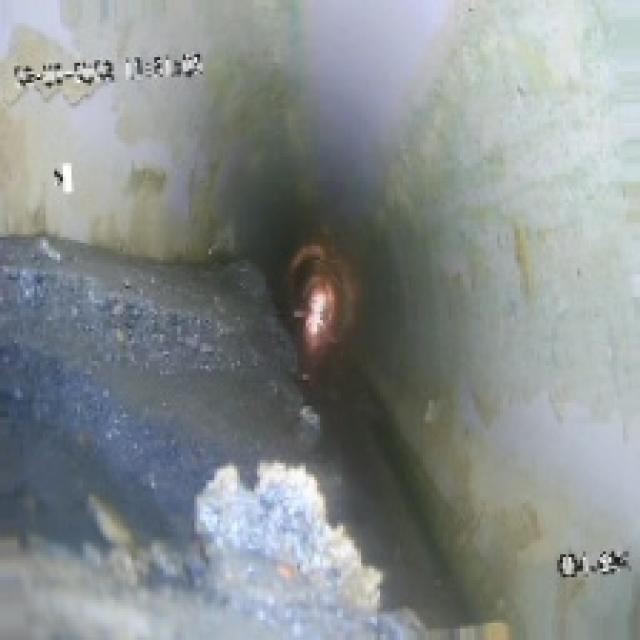sluge accumulation: (12, 252, 394, 632)
